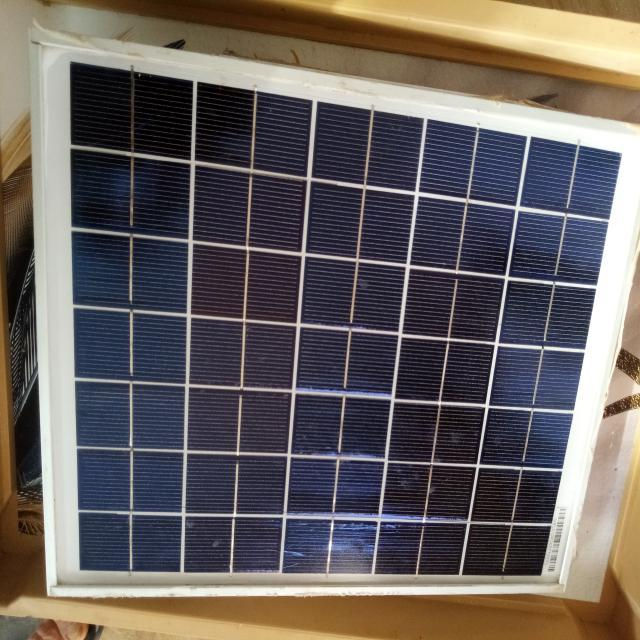no faulty: (35, 37, 640, 594)
